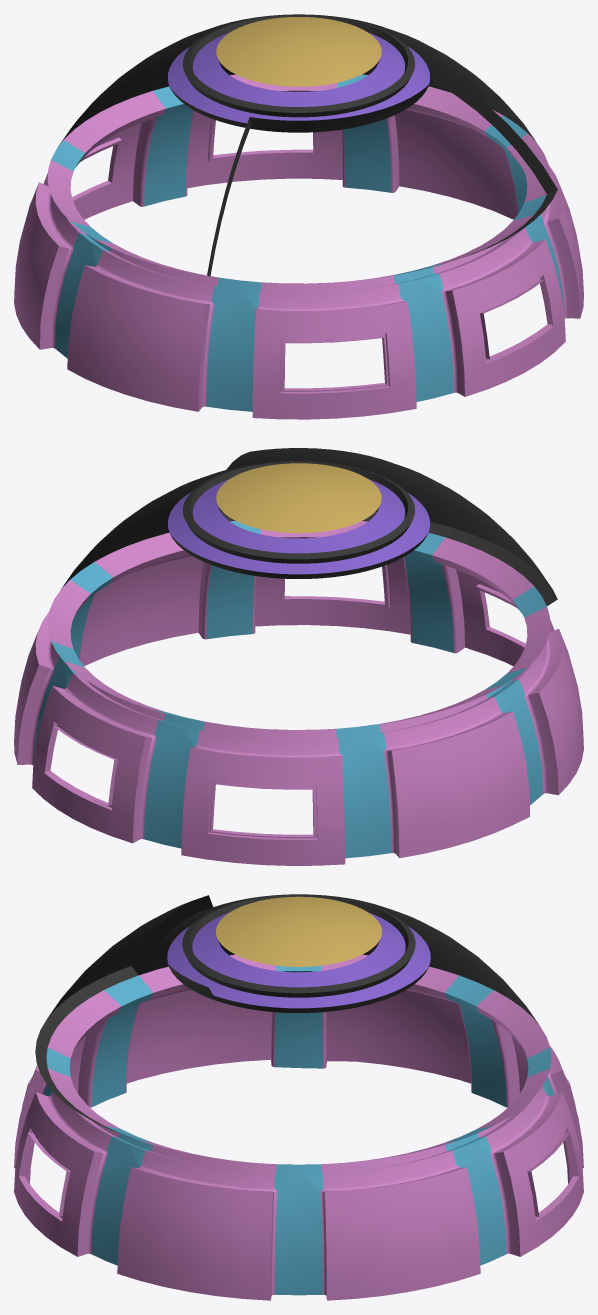
The picture shows the model from 3 angles, top to bottom: view 1: azimuth 30°, elevation 25°; view 2: azimuth 150°, elevation 25°; view 3: azimuth 270°, elevation 25°; orthographic projection.
Visible parts, largest first — view 1: Sphere_3; view 2: Sphere_3; view 3: Sphere_3.
Boxes of the visible parts, x1,y1,x2,y2 form: Sphere_3: [14, 14, 583, 419]; Sphere_3: [14, 448, 583, 865]; Sphere_3: [14, 894, 583, 1300].
Bounding box in the file's own units: 1990 × 1007 × 1990.
